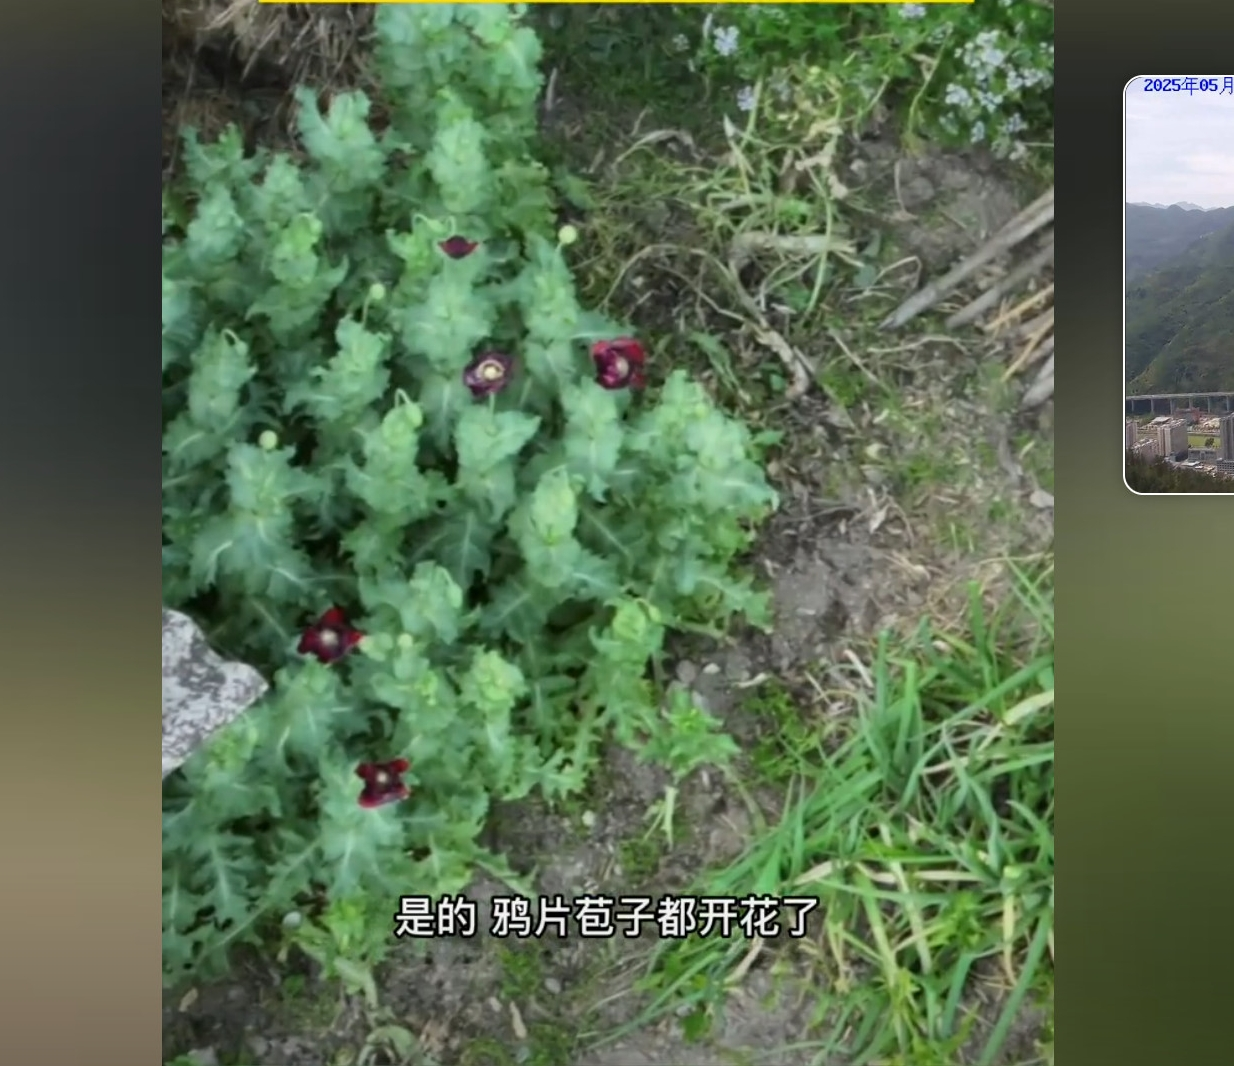Poppy: (168, 10, 793, 930)
